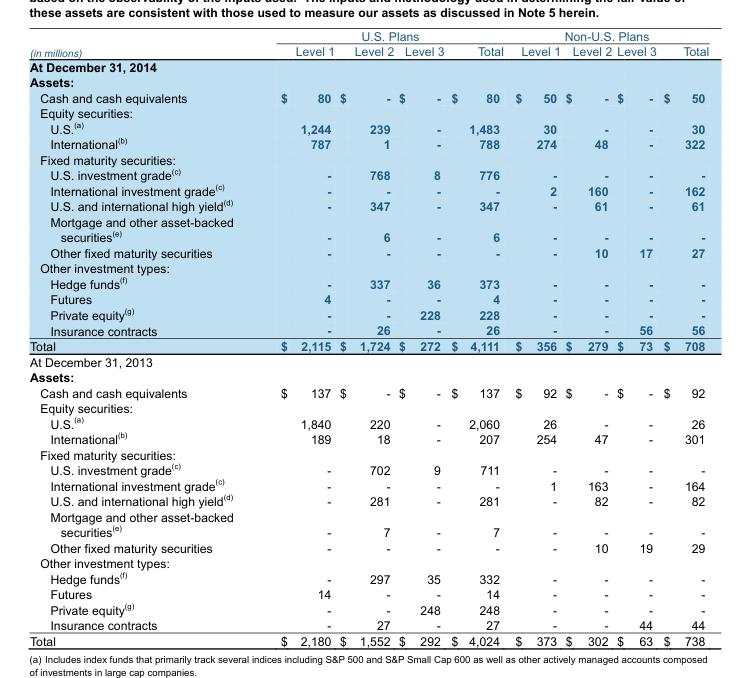table: (28, 28, 708, 647)
table column: (28, 28, 256, 647), (256, 28, 336, 647), (447, 28, 508, 647), (336, 28, 395, 647), (508, 28, 562, 647), (395, 28, 447, 647), (562, 28, 613, 647), (659, 28, 708, 647), (613, 28, 659, 647)
table column header: (28, 28, 708, 58)
table projected row header: (28, 58, 708, 74), (28, 368, 708, 384), (28, 74, 708, 89), (28, 105, 708, 120), (28, 151, 708, 166), (28, 213, 708, 228), (28, 260, 708, 275), (28, 353, 708, 368), (28, 446, 708, 461), (28, 508, 708, 523), (28, 400, 708, 414), (28, 555, 708, 569)
table row: (28, 569, 708, 586), (28, 600, 708, 617), (28, 58, 708, 74), (28, 89, 708, 105), (28, 135, 708, 151), (28, 166, 708, 182), (28, 197, 708, 213), (28, 228, 708, 244), (28, 244, 708, 260), (28, 275, 708, 291), (28, 306, 708, 322), (28, 337, 708, 353), (28, 368, 708, 384), (28, 384, 708, 400), (28, 414, 708, 430), (28, 430, 708, 446), (28, 476, 708, 492), (28, 492, 708, 508), (28, 523, 708, 539), (28, 539, 708, 555), (28, 28, 708, 43), (28, 43, 708, 58), (28, 74, 708, 89), (28, 105, 708, 120), (28, 120, 708, 135), (28, 151, 708, 166), (28, 182, 708, 197), (28, 213, 708, 228), (28, 260, 708, 275), (28, 291, 708, 306), (28, 322, 708, 337), (28, 353, 708, 368), (28, 446, 708, 461), (28, 461, 708, 476), (28, 508, 708, 523), (28, 617, 708, 632), (28, 632, 708, 647), (28, 400, 708, 414), (28, 555, 708, 569), (28, 586, 708, 600)
table spanning cell: (28, 28, 256, 58), (256, 28, 508, 43), (508, 28, 708, 43)
